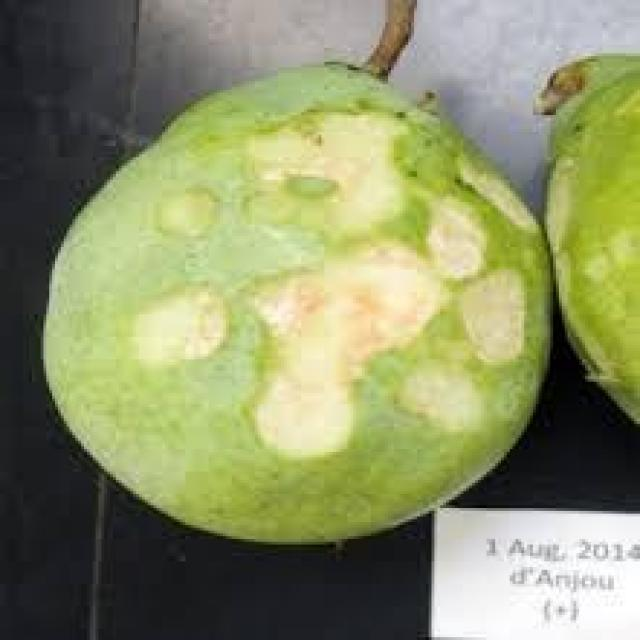maca: (38, 0, 553, 545), (533, 45, 637, 457)
